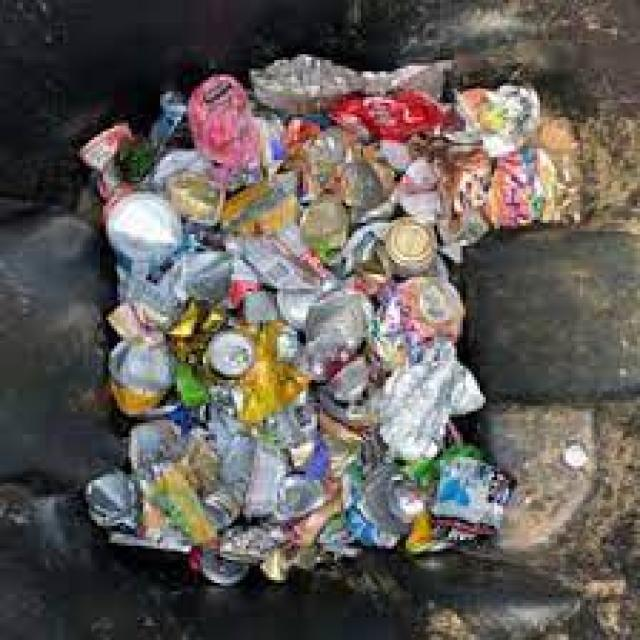Garbage: (80, 54, 580, 586)
Plastic_wraper: (332, 91, 444, 141)
can: (346, 462, 425, 548), (106, 191, 182, 277), (385, 218, 438, 277), (208, 331, 254, 377)
